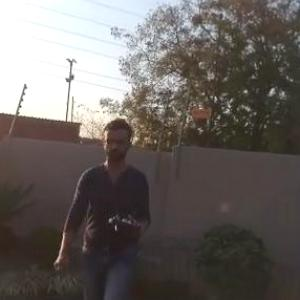follow: (40, 111, 159, 299)
